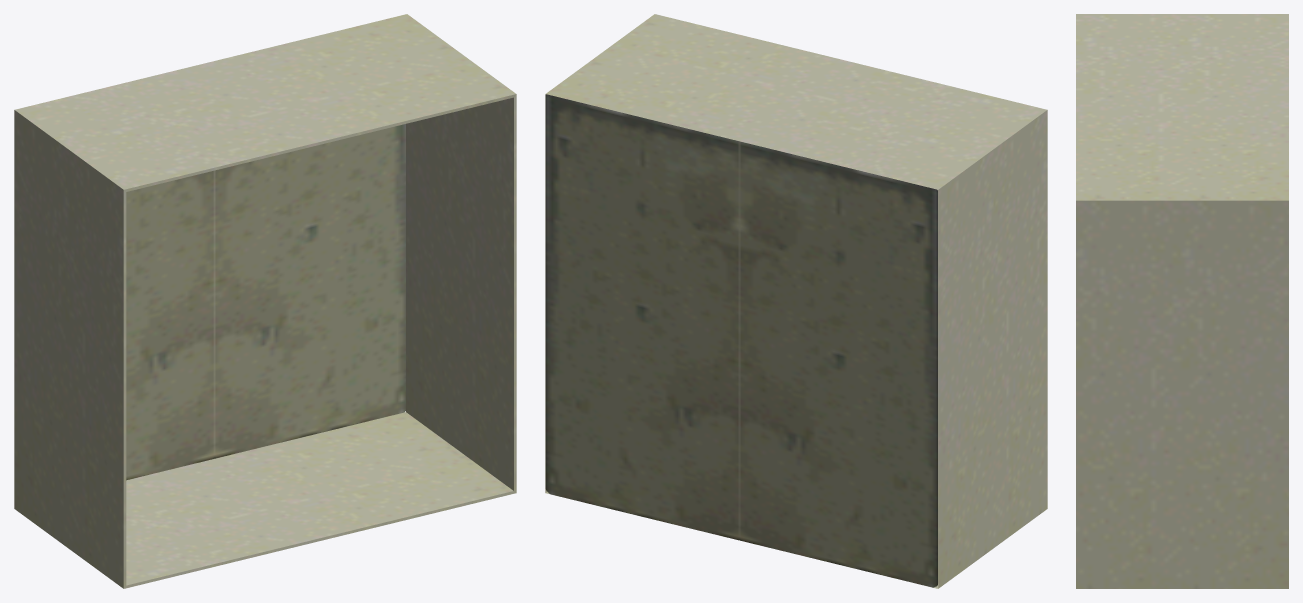
The model's file is file_cabinet_largest_open.obj.
The picture shows the model from 3 angles, left to right: view 1: azimuth 30°, elevation 25°; view 2: azimuth 150°, elevation 25°; view 3: azimuth 270°, elevation 25°; orthographic projection. The views are drawn at different scales.
Parts seen in each view (by area): view 1: file_cabinet_largest_open; view 2: file_cabinet_largest_open; view 3: file_cabinet_largest_open.
Boxes of the visible parts, x1,y1,x2,y2 form: file_cabinet_largest_open: (14,14,516,588); file_cabinet_largest_open: (545,14,1047,588); file_cabinet_largest_open: (1076,14,1288,588).
Size of the model in its own units: 1.45 by 1.41 by 0.6994.
